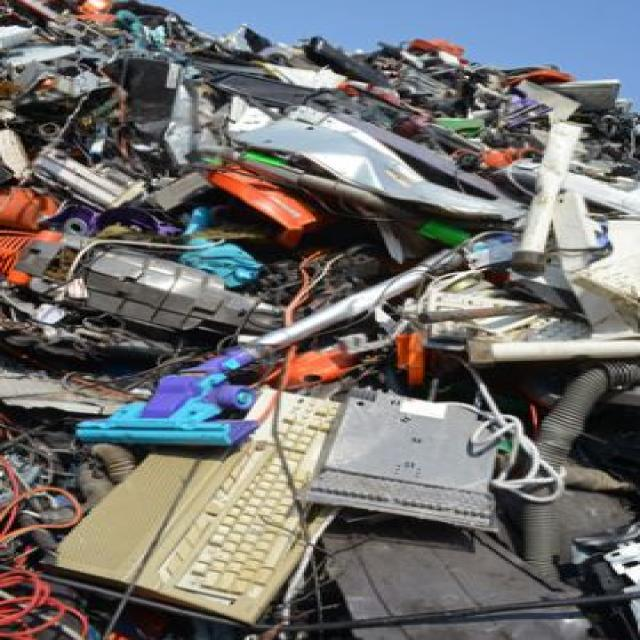electronic: (55, 344, 410, 640)
